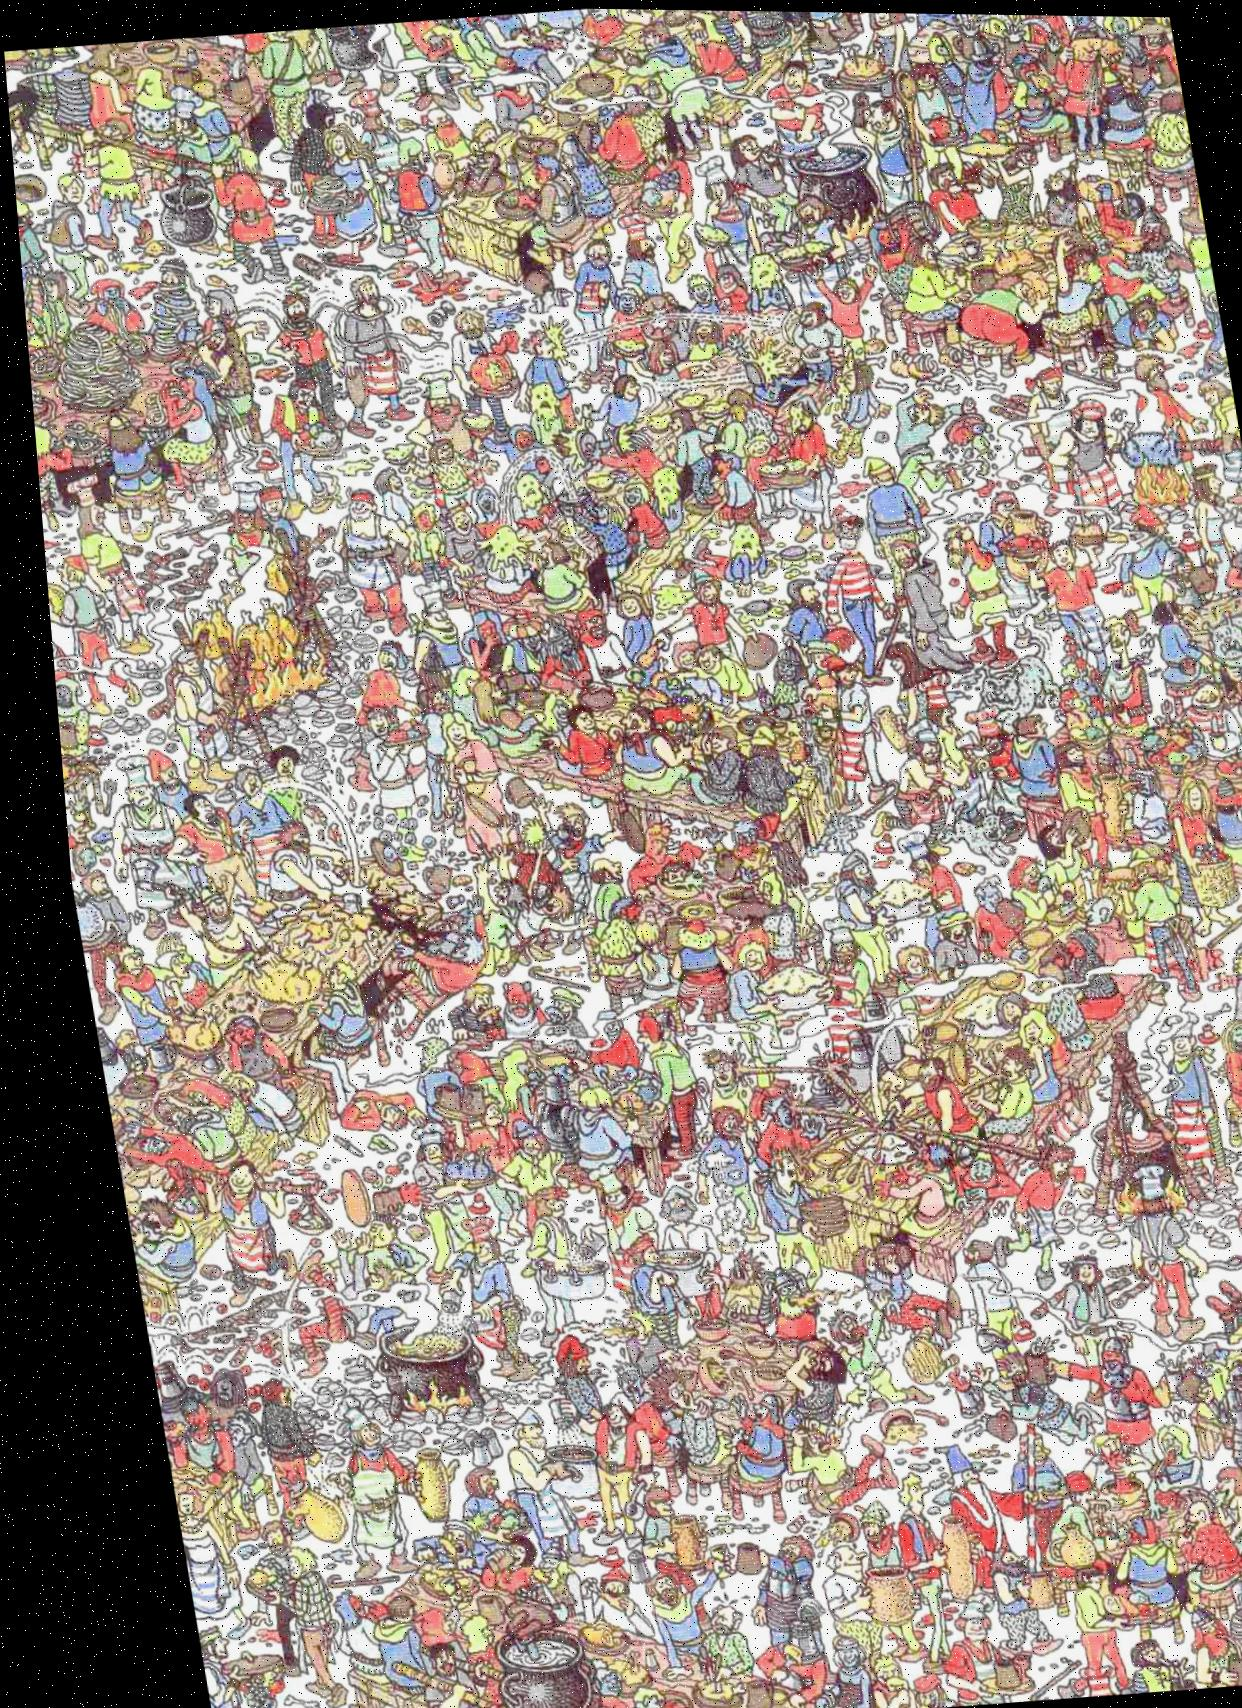waldo: (820, 499, 864, 550)
